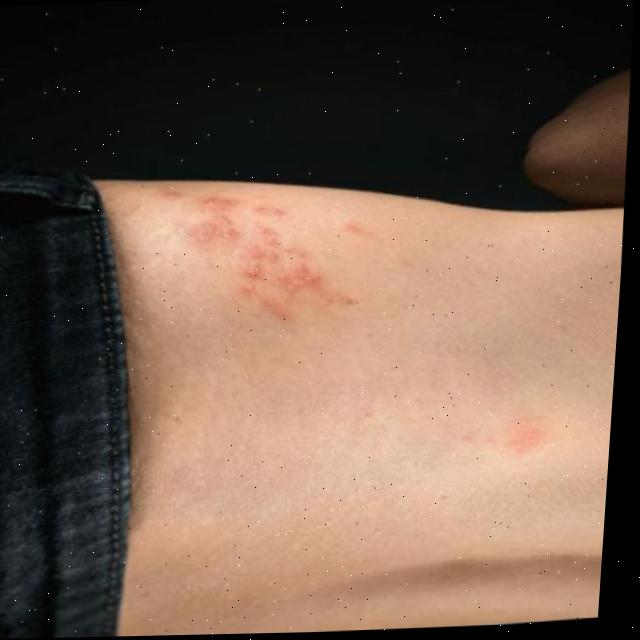Shingles: (182, 181, 359, 314)
